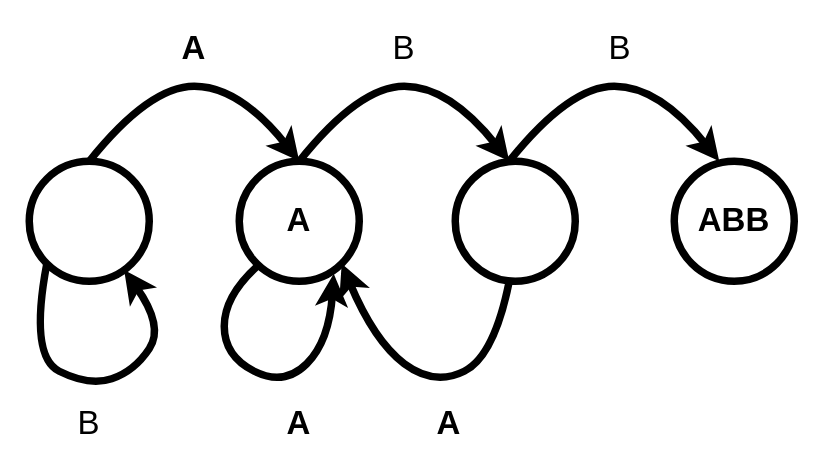
Some shapes in this 824 by 471 pixel diagram are drawn without their labels. The box of each missing label's shape, as (x1, y1, x2, y2) in pixels:
AB: (451, 157, 578, 284)
S 0: (25, 157, 152, 284)
